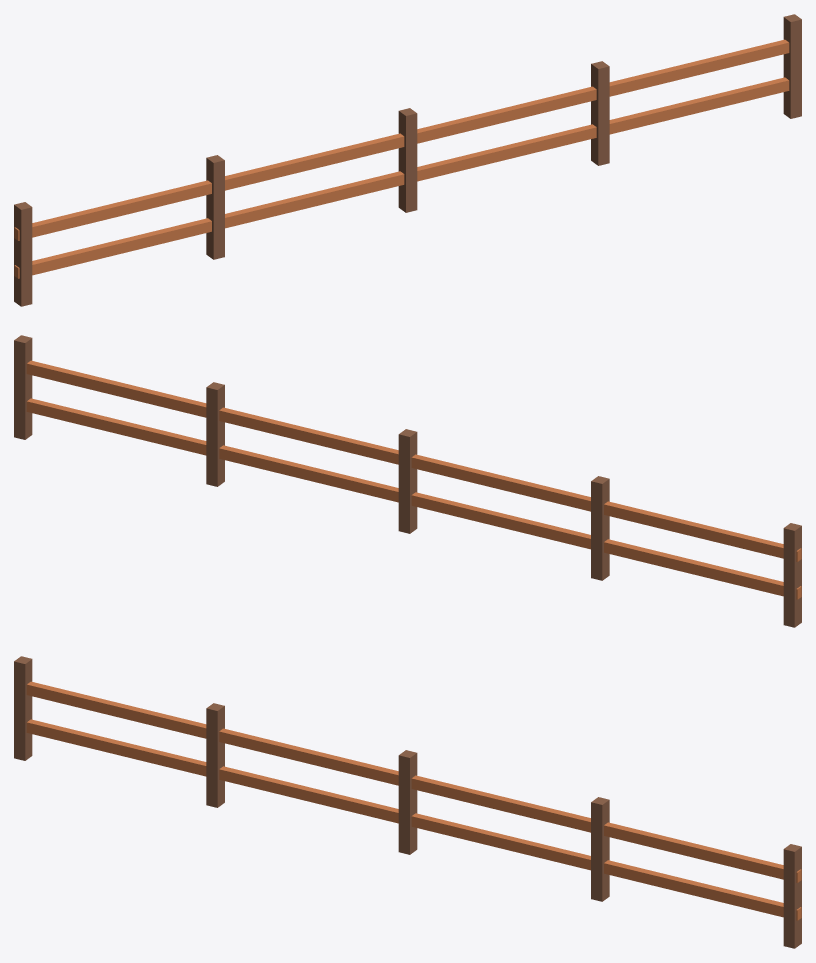
Rendered from snow-fence.glb.
The picture shows the model from 3 angles, top to bottom: view 1: azimuth 30°, elevation 25°; view 2: azimuth 150°, elevation 25°; view 3: azimuth 330°, elevation 25°; orthographic projection.
Parts seen in each view (by area): view 1: snow-fence; view 2: snow-fence; view 3: snow-fence.
Part boxes in pixels (<box>): snow-fence: <box>14,14,801,306</box>; snow-fence: <box>14,335,801,627</box>; snow-fence: <box>14,656,801,948</box>.
Bounding box in the file's own units: 12.52 × 1.48 × 0.2.
